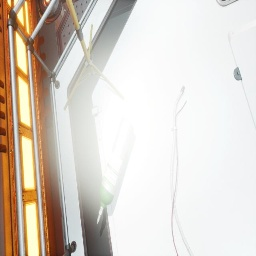0: (97, 118, 134, 224)
FirstAidBox ,: (29, 3, 31, 12)
